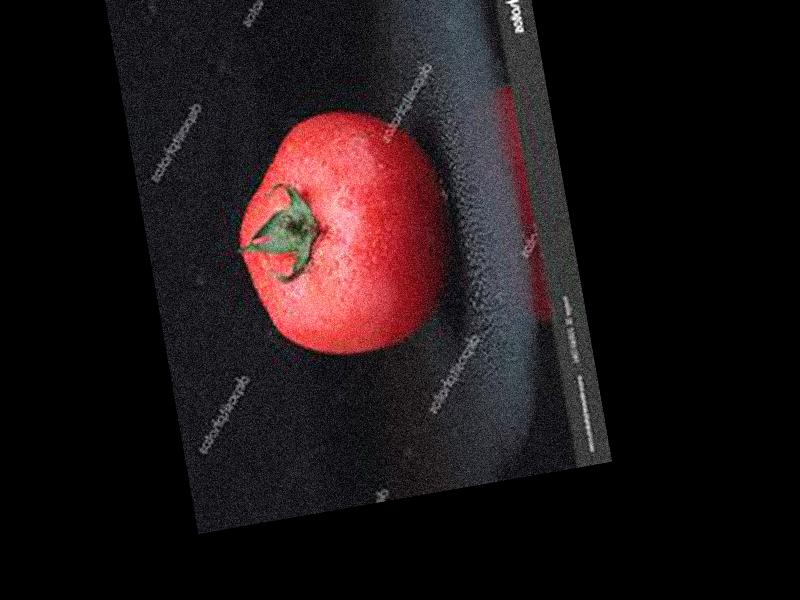Tomato: (217, 95, 467, 372)
